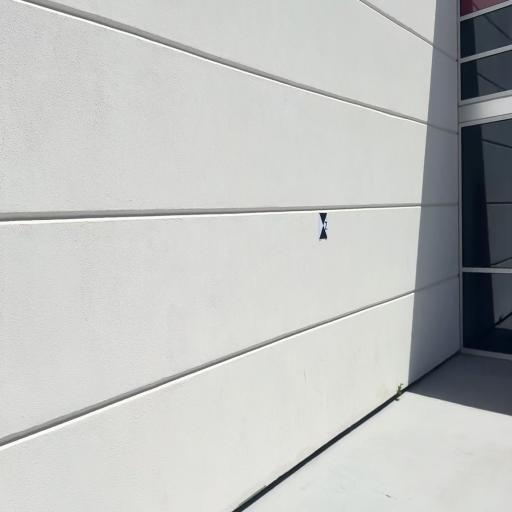target7: (319, 213, 328, 239)
